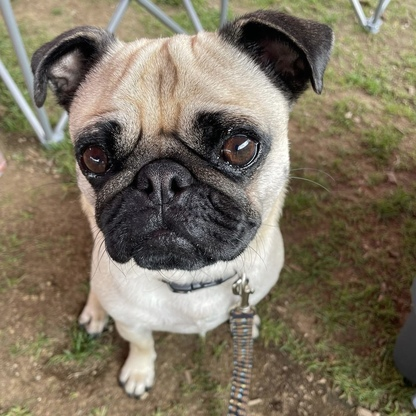Pug: (28, 6, 338, 404)
